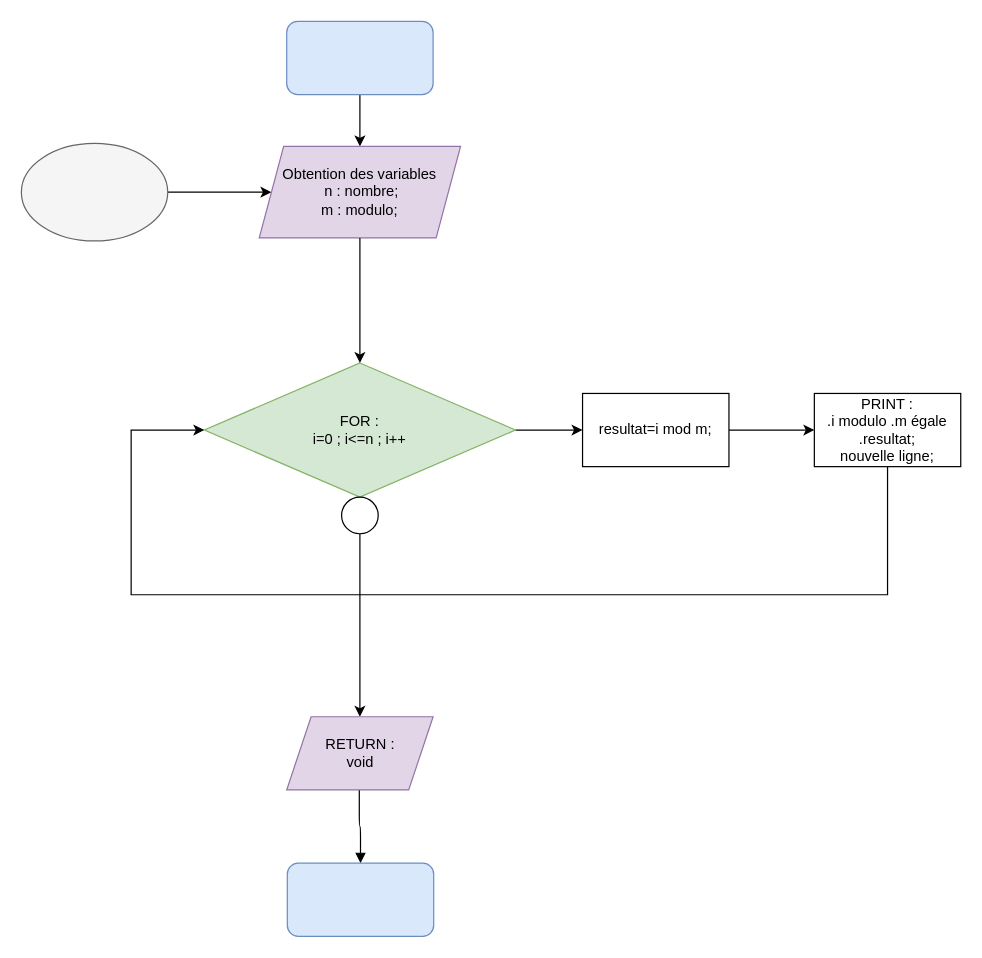
Some shapes in this 982 by 958 pixel diagram are drawn without their labels. Each missing label, with the box of its shape:
DEBUT : titre : modulo: (285, 20, 433, 95)
FIN: (286, 862, 434, 936)
Manière d'obtenir: (20, 142, 168, 241)
